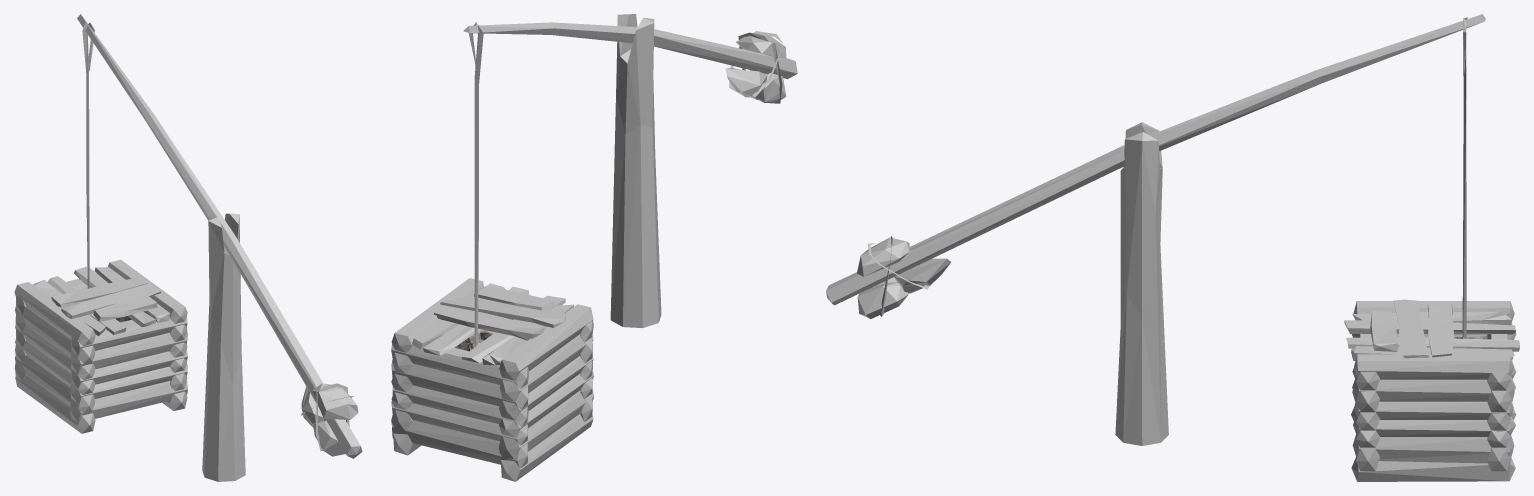
Rendered from Well_LOD2.fbx.
3 renders of one model, left to right at view 1: azimuth 30°, elevation 25°; view 2: azimuth 150°, elevation 25°; view 3: azimuth 270°, elevation 25°, orthographic. The views are drawn at different scales.
Parts seen in each view (by area): view 1: Wood, General; view 2: Wood, General; view 3: Wood, General.
Boxes of the visible parts, left/top/right/bottom form: Wood: left=14, top=14, right=362, bottom=481; General: left=82, top=22, right=358, bottom=456; Wood: left=391, top=14, right=797, bottom=481; General: left=468, top=22, right=786, bottom=347; Wood: left=826, top=14, right=1519, bottom=481; General: left=857, top=17, right=1467, bottom=338.
Bounding box in the file's own units: 211 × 911 × 634.
